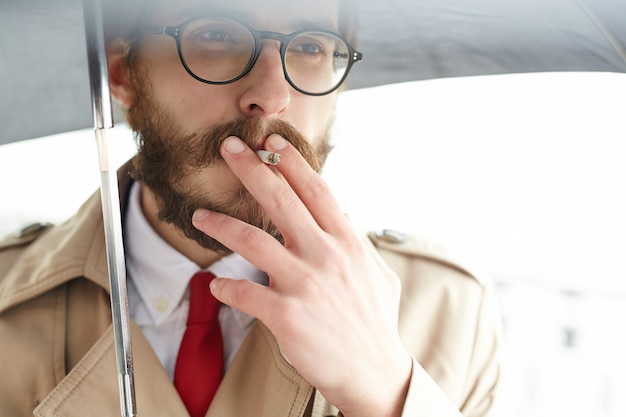cigarette: (252, 147, 282, 166)
